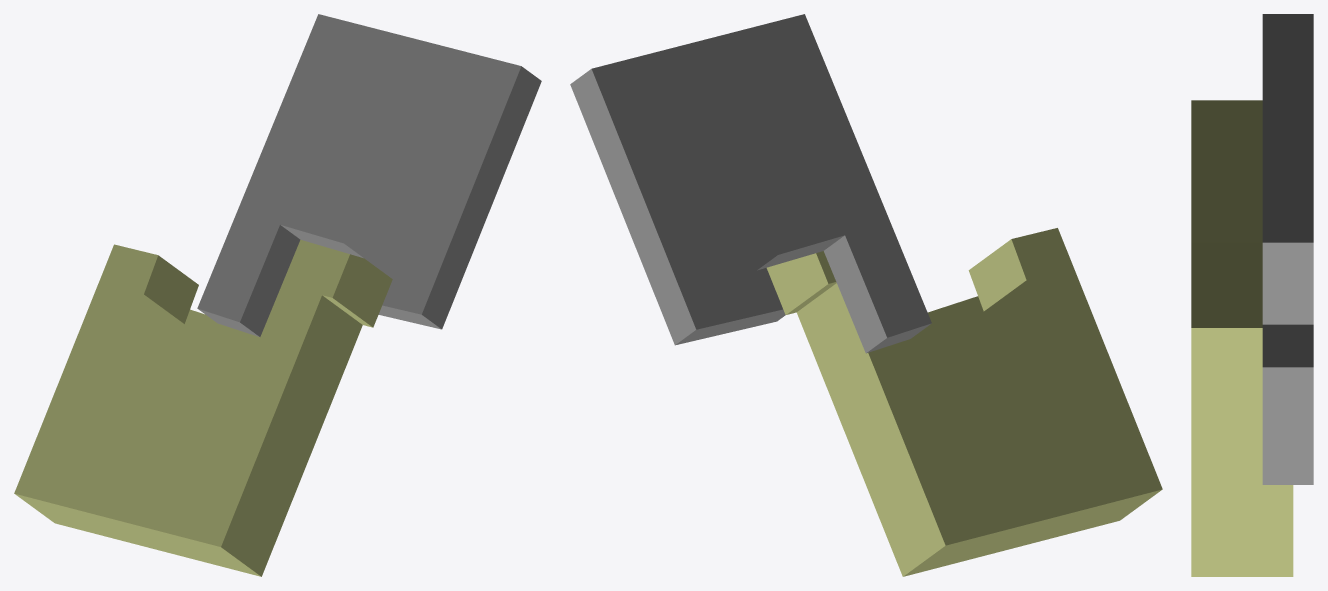
The picture shows the model from 3 angles, left to right: view 1: azimuth 30°, elevation 25°; view 2: azimuth 150°, elevation 25°; view 3: azimuth 270°, elevation 25°; orthographic projection. The views are drawn at different scales.
Parts seen in each view (by area): view 1: 0_1_0_0_1_0_3_2_2; view 2: 0_1_0_0_1_0_3_2_2; view 3: 0_1_0_0_1_0_3_2_2.
Boxes of the visible parts, x1,y1,x2,y2 form: 0_1_0_0_1_0_3_2_2: (14, 14, 541, 576); 0_1_0_0_1_0_3_2_2: (570, 14, 1162, 576); 0_1_0_0_1_0_3_2_2: (1191, 14, 1313, 576).
Bounding box in the file's own units: 43.82 × 40.73 × 7.2.
